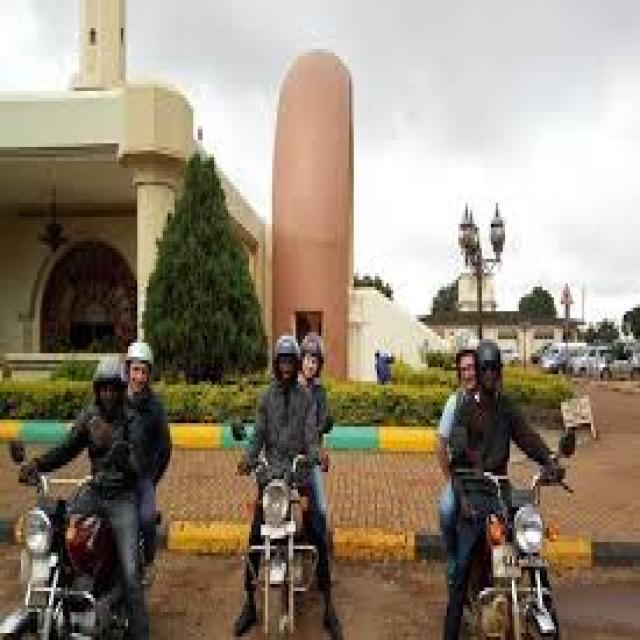bodaboda: (0, 394, 191, 640), (439, 408, 613, 640), (216, 399, 379, 640)
